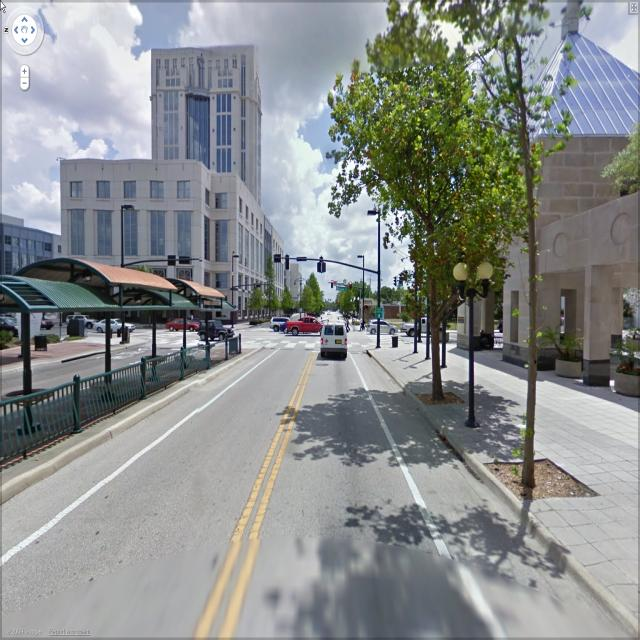b_1: (56, 161, 270, 316), (154, 45, 266, 214), (268, 228, 287, 303), (260, 222, 272, 304)
b_2: (426, 1, 640, 405), (324, 274, 428, 338)
